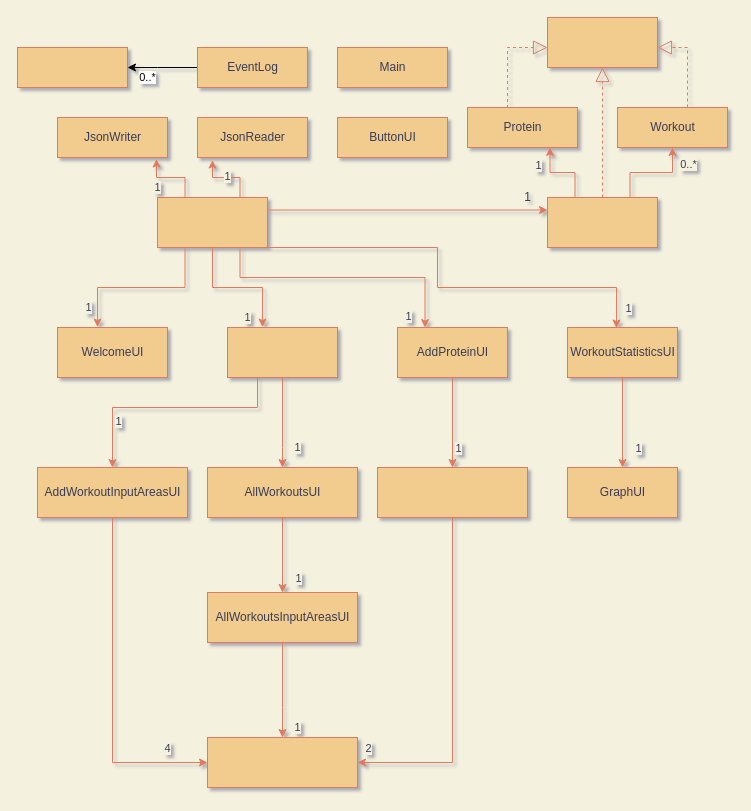
Image size: 751x811. Some labels were removed from this diagram. Here are the shapes that lost their labels. From the top down, the centre of each, then its label:
the point at 602,42: «interface» Writable
the point at 72,67: Event
the point at 212,222: ManagerApp
the point at 602,222: Schedule
the point at 282,352: AddWorkoutUI
the point at 452,492: ProteinInputAreasUI
the point at 282,762: InputAreaUI
